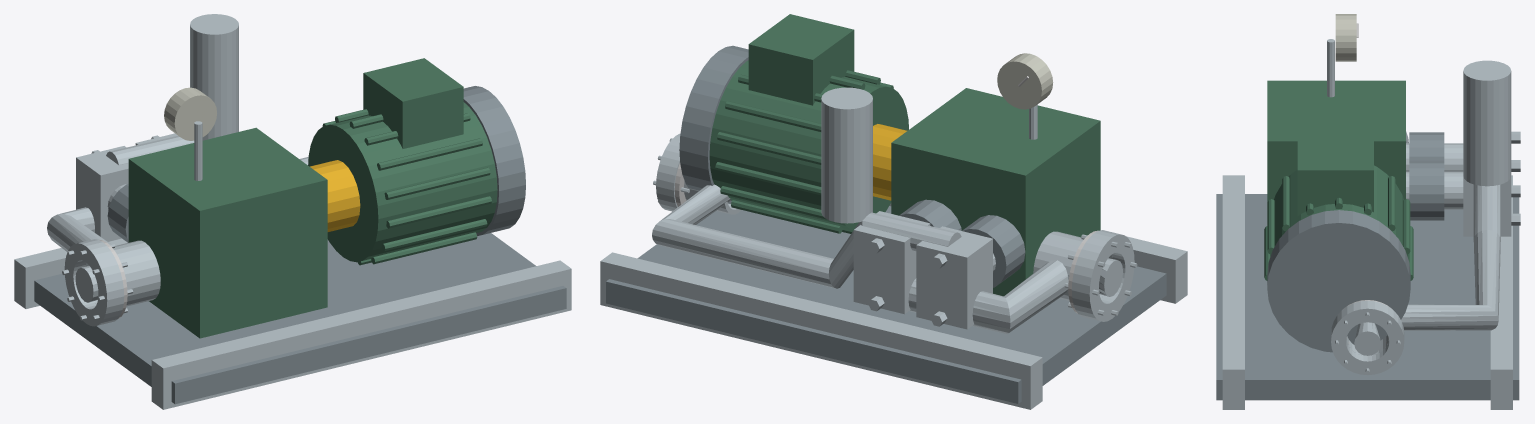
Rendered from compact.obj.
3 renders of one model, left to right at view 1: azimuth 30°, elevation 25°; view 2: azimuth 150°, elevation 25°; view 3: azimuth 270°, elevation 25°, orthographic. The views are drawn at different scales.
Bounding box in the file's own units: 0.9 × 0.5057 × 0.5749.
